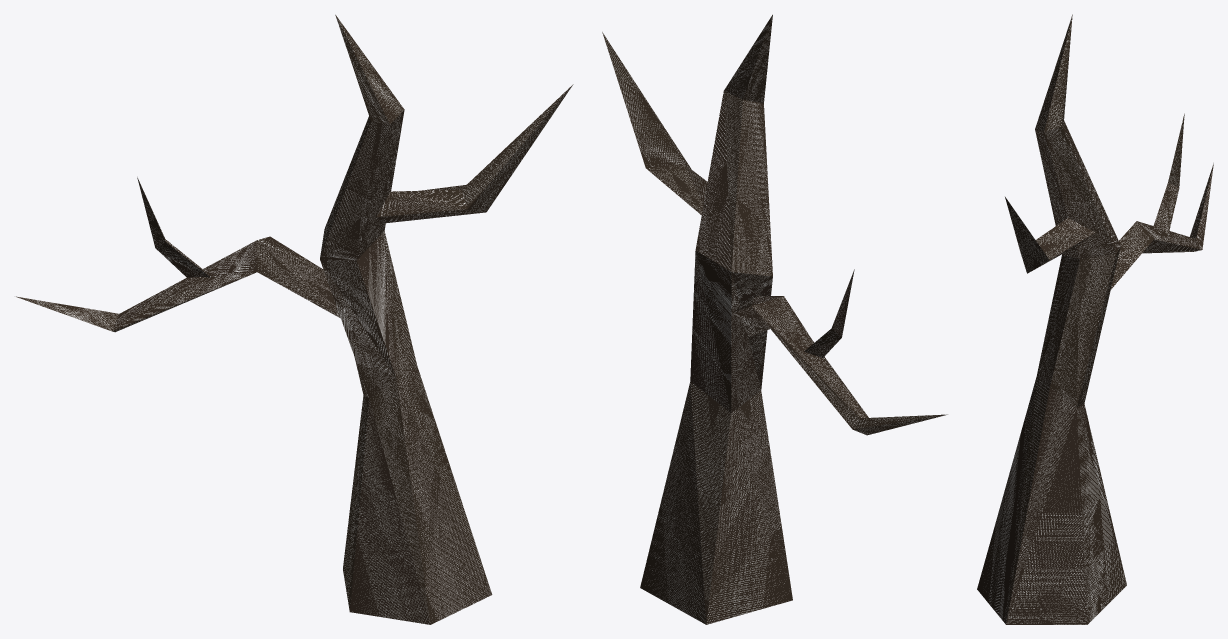
File: Graveyard_Tree_Dead_Small_01.fbx
3 renders of one model, left to right at view 1: azimuth 30°, elevation 25°; view 2: azimuth 150°, elevation 25°; view 3: azimuth 270°, elevation 25°, orthographic. The views are drawn at different scales.
Parts seen in each view (by area): view 1: Model; view 2: Model; view 3: Model.
Boxes of the visible parts, x1=… form: Model: x1=15, y1=14, x2=573, y2=624; Model: x1=602, y1=14, x2=947, y2=624; Model: x1=977, y1=14, x2=1213, y2=624.
Size of the model in its own units: 642 by 798 by 309.
